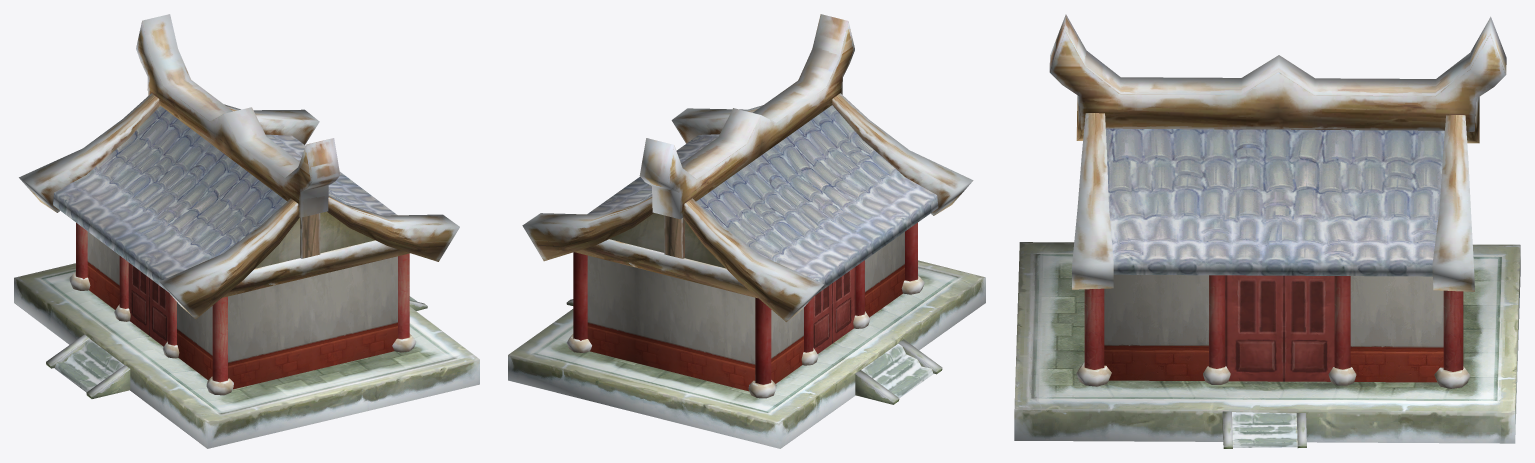
Rendered from SM_House_03.fbx.
3 views of the same model, side by side, from view 1: azimuth 30°, elevation 25°; view 2: azimuth 150°, elevation 25°; view 3: azimuth 270°, elevation 25° (orthographic). The views are drawn at different scales.
Parts seen in each view (by area): view 1: SM_House_03; view 2: SM_House_03; view 3: SM_House_03.
Part boxes in pixels (x1,y1,x2,y2): SM_House_03: (14,14,479,448); SM_House_03: (508,14,985,448); SM_House_03: (1014,14,1520,448).
Size of the model in its own units: 5.55 by 4.13 by 5.7.
